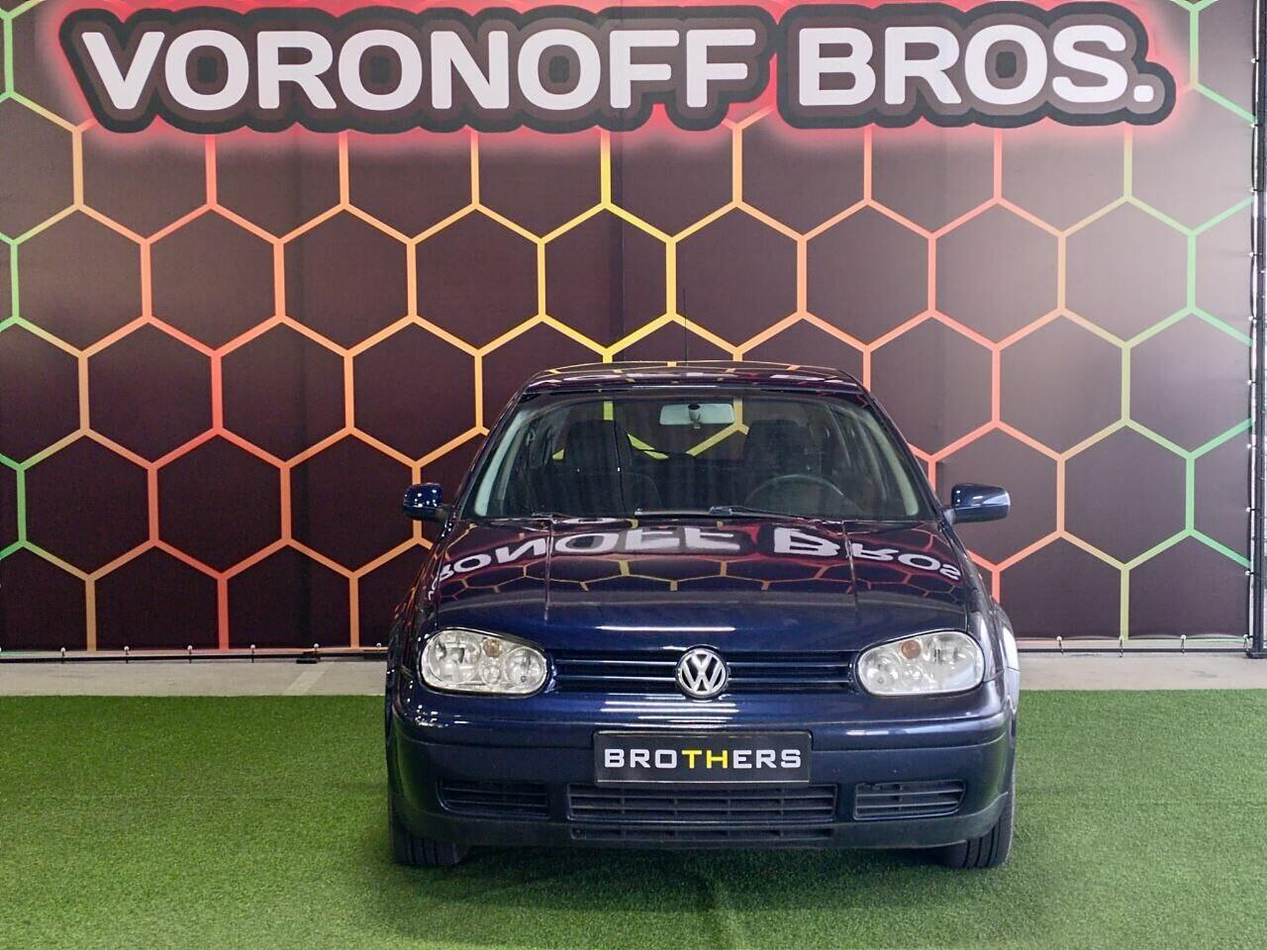Golf_1997-2006: (376, 353, 1031, 879)
